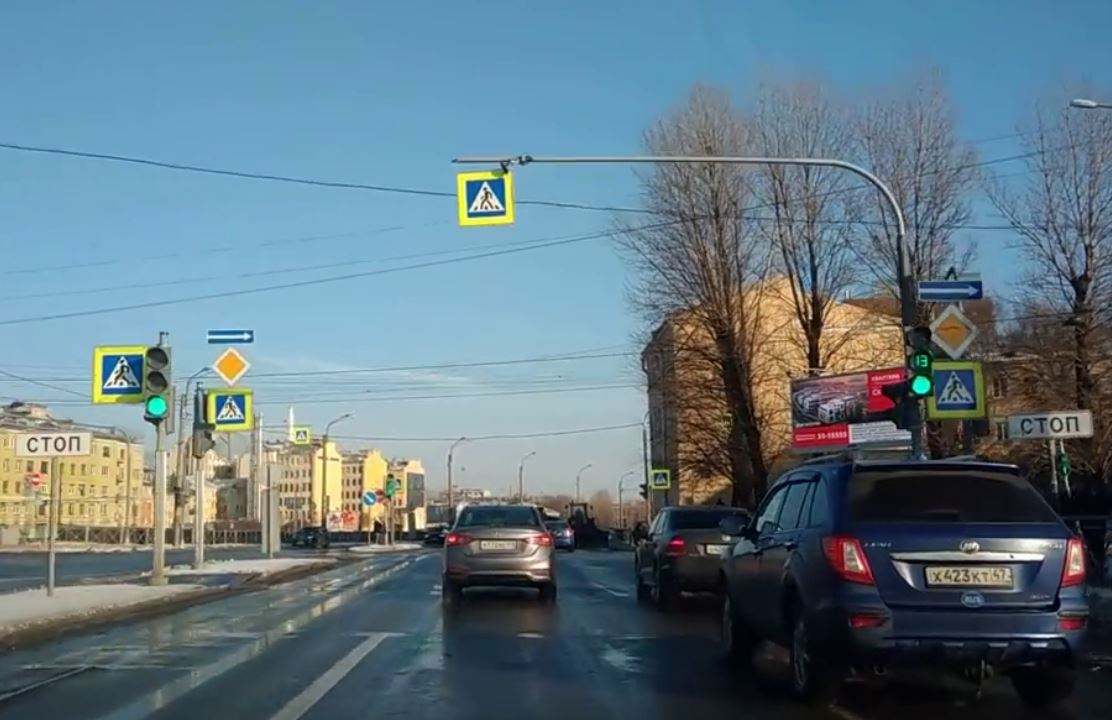Yaya Gecidi: (935, 369, 979, 414), (97, 358, 143, 397), (464, 179, 508, 216), (214, 395, 246, 423)
